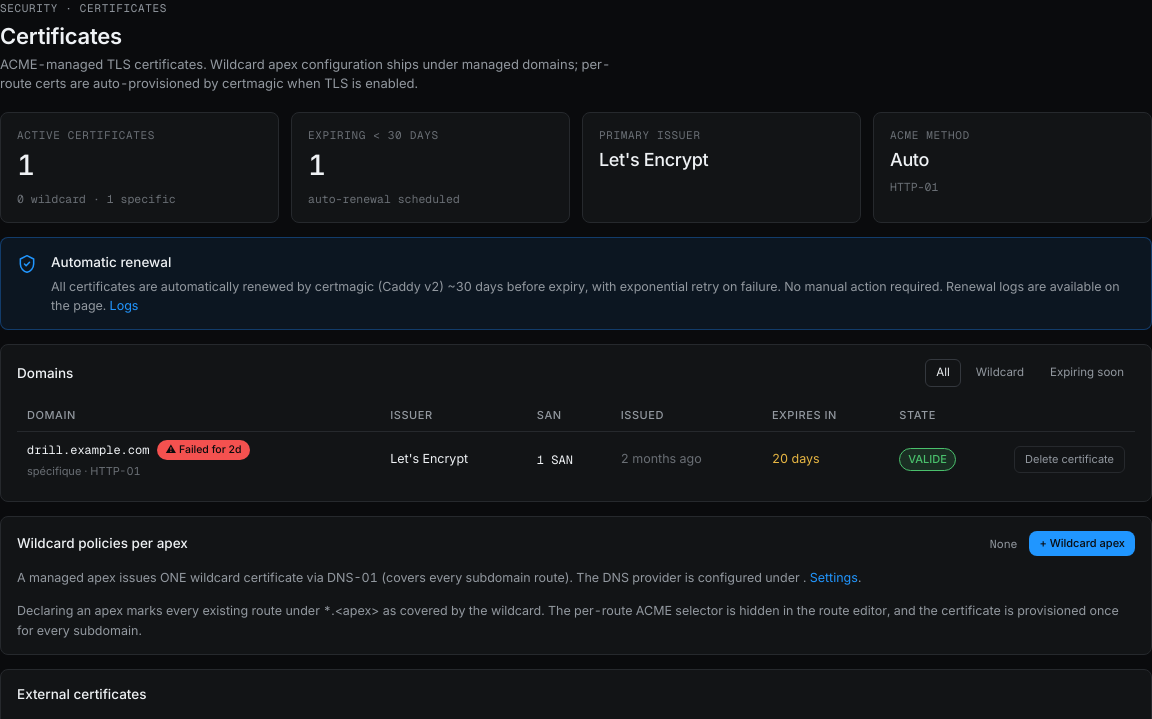
Scenario: /certs — Cert.B stale-failure badge › opens the drill-down modal with last 5 events when the badge is clicked
What coordinates should you click on to do the following:
click the button with test id "cert-stale-badge"
I would click on:
 (203, 450)
Its box is [157,440,250,460].
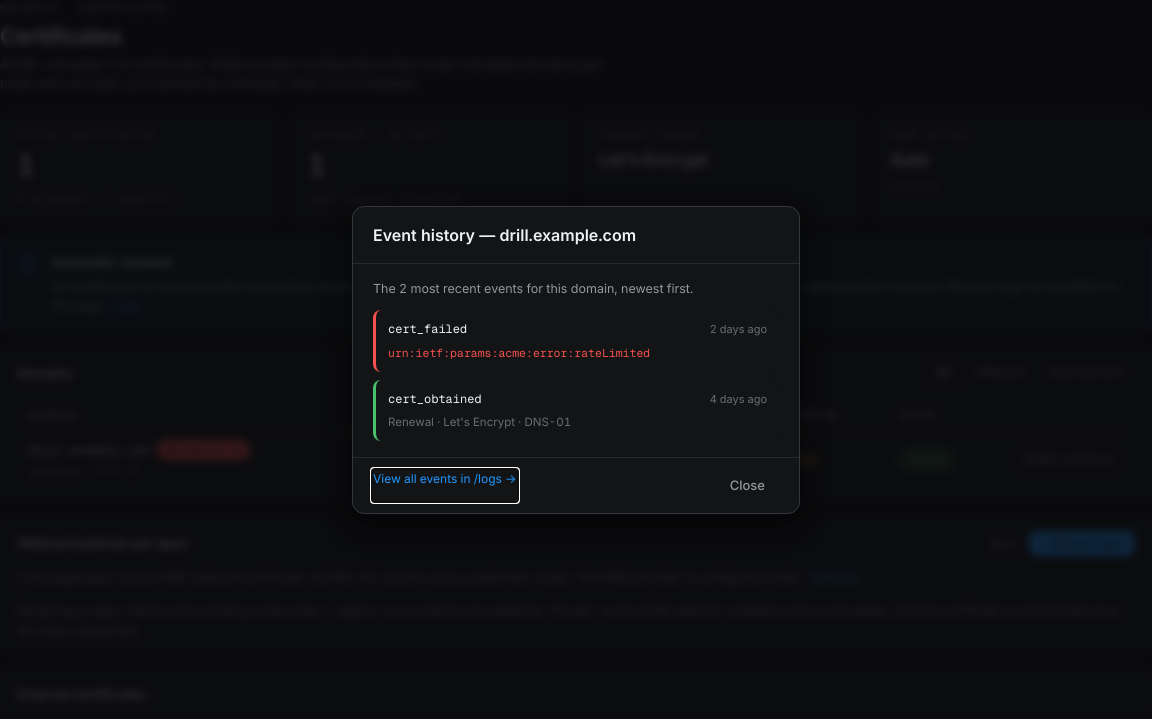
Expected: the text with test id "cert-event-error" shows "rateLimited", [388,345,650,360]
